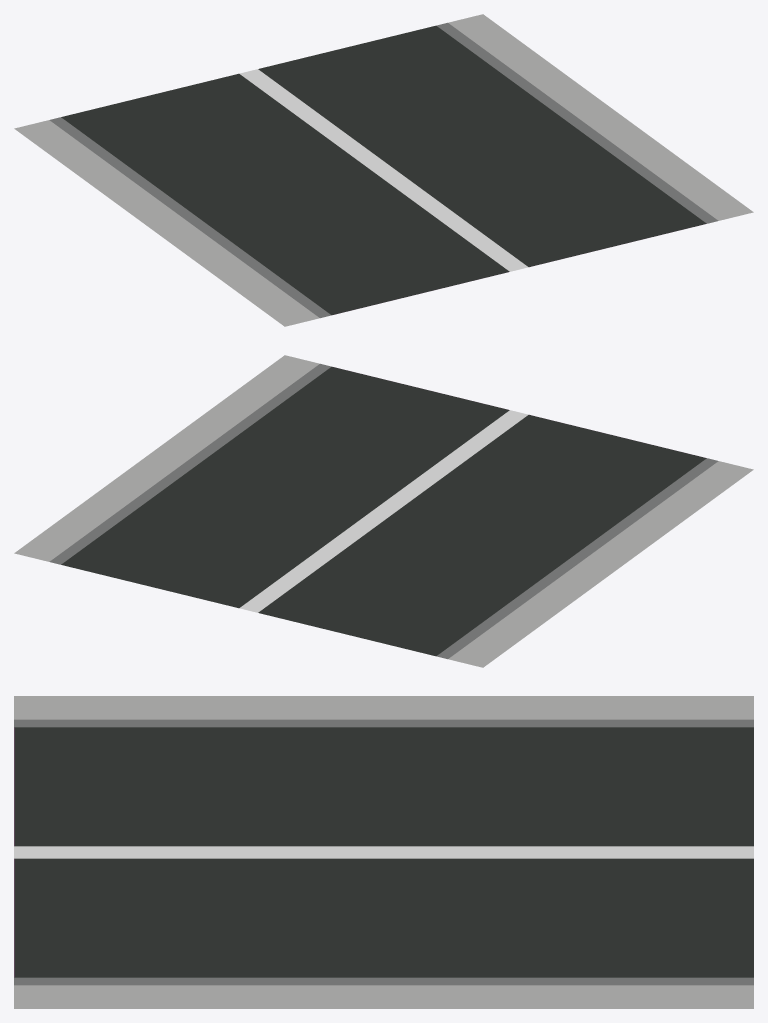
The model's file is SM_Road_Tile_Single_Line.fbx.
3 views of the same model, one above another, from view 1: azimuth 30°, elevation 25°; view 2: azimuth 150°, elevation 25°; view 3: azimuth 270°, elevation 25° (orthographic). The views are drawn at different scales.
Parts seen in each view (by area): view 1: Tile_Road_Single_Line; view 2: Tile_Road_Single_Line; view 3: Tile_Road_Single_Line.
Boxes of the visible parts, left/top/right/bottom form: Tile_Road_Single_Line: left=14, top=14, right=753, bottom=326; Tile_Road_Single_Line: left=14, top=355, right=753, bottom=667; Tile_Road_Single_Line: left=14, top=696, right=753, bottom=1008.
Size of the model in its own units: 1000 by 0 by 1000.
1 material, 1 textured.
